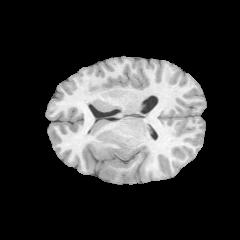glioma: (89, 145, 129, 174)
